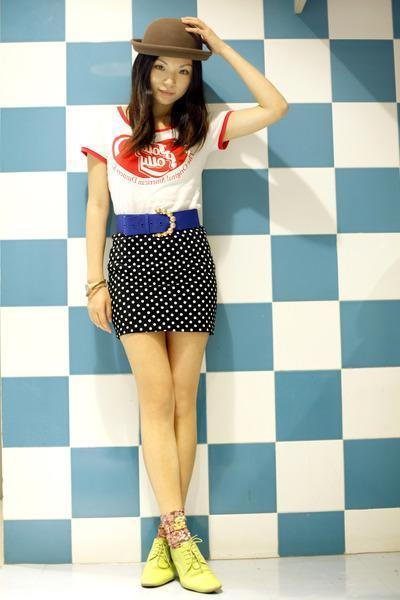short sleeve shirt: (78, 104, 234, 226)
skirt: (102, 223, 220, 338)
